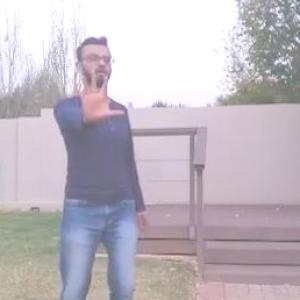follow_hand: (70, 68, 124, 124)
